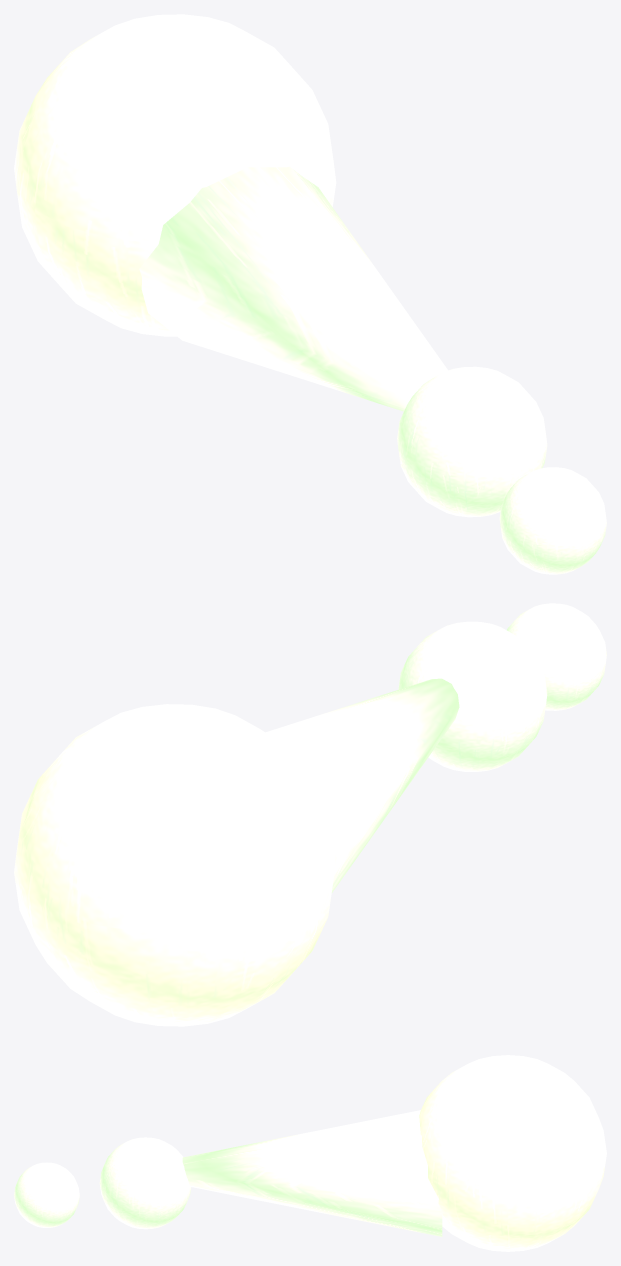
The model's file is will-o-wisp.glb.
3 views of the same model, one above another, from view 1: azimuth 30°, elevation 25°; view 2: azimuth 150°, elevation 25°; view 3: azimuth 270°, elevation 25° (orthographic). The views are drawn at different scales.
Visible parts, largest first — view 1: Orb, Tail, TrailPuff1, TrailPuff2; view 2: Orb, Tail, TrailPuff1, TrailPuff2; view 3: Orb, Tail, TrailPuff1, TrailPuff2.
Boxes of the visible parts, <box> form: Orb: <box>14,14,336,336</box>; Tail: <box>139,166,447,411</box>; TrailPuff1: <box>397,366,547,517</box>; TrailPuff2: <box>499,467,606,574</box>; Orb: <box>14,704,336,1026</box>; Tail: <box>266,678,459,892</box>; TrailPuff1: <box>398,621,547,771</box>; TrailPuff2: <box>507,603,606,710</box>; Orb: <box>419,1055,606,1251</box>; Tail: <box>182,1110,442,1236</box>; TrailPuff1: <box>99,1137,191,1229</box>; TrailPuff2: <box>14,1162,79,1227</box>.
Bounding box in the file's own units: 0.35 × 0.35 × 1.05.
2 materials, 2 textured.
